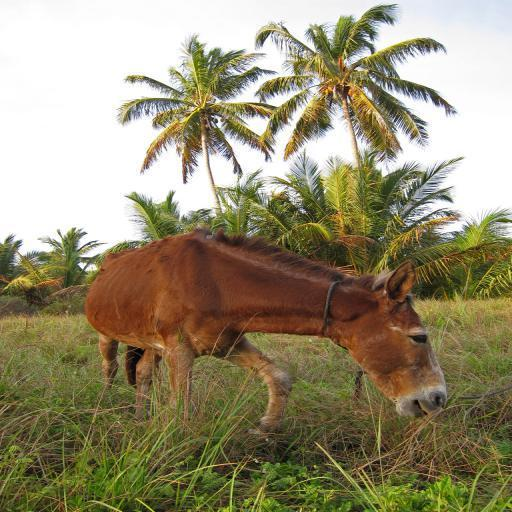horse: (84, 224, 448, 438)
